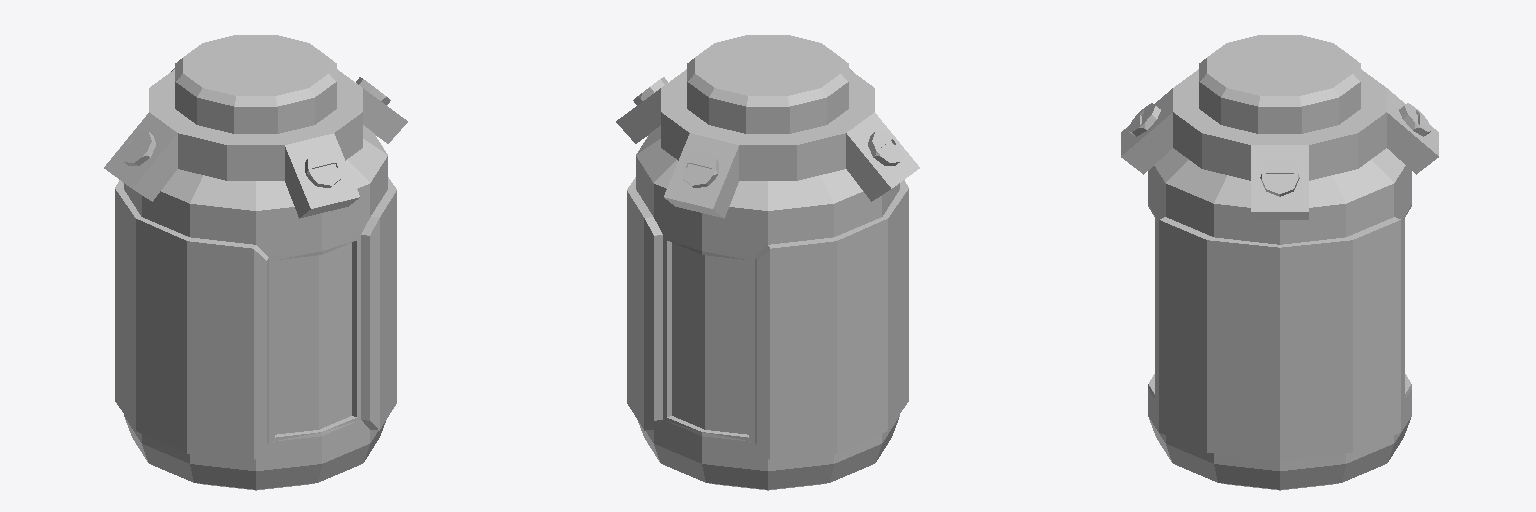
The model's file is Pickup_Tank_Cylinder_002.obj.
3 renders of one model, left to right at view 1: azimuth 30°, elevation 25°; view 2: azimuth 150°, elevation 25°; view 3: azimuth 270°, elevation 25°, orthographic.
Visible parts, largest first — view 1: Pickup_Tank_Cylinder.002; view 2: Pickup_Tank_Cylinder.002; view 3: Pickup_Tank_Cylinder.002.
Boxes of the visible parts, x1,y1,x2,y2 form: Pickup_Tank_Cylinder.002: [104, 35, 407, 490]; Pickup_Tank_Cylinder.002: [616, 35, 919, 490]; Pickup_Tank_Cylinder.002: [1121, 35, 1438, 490].
Size of the model in its own units: 0.2007 by 0.2647 by 0.2007.